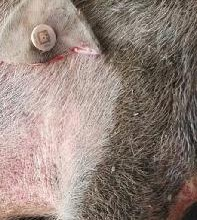text: (23, 15, 66, 63)
